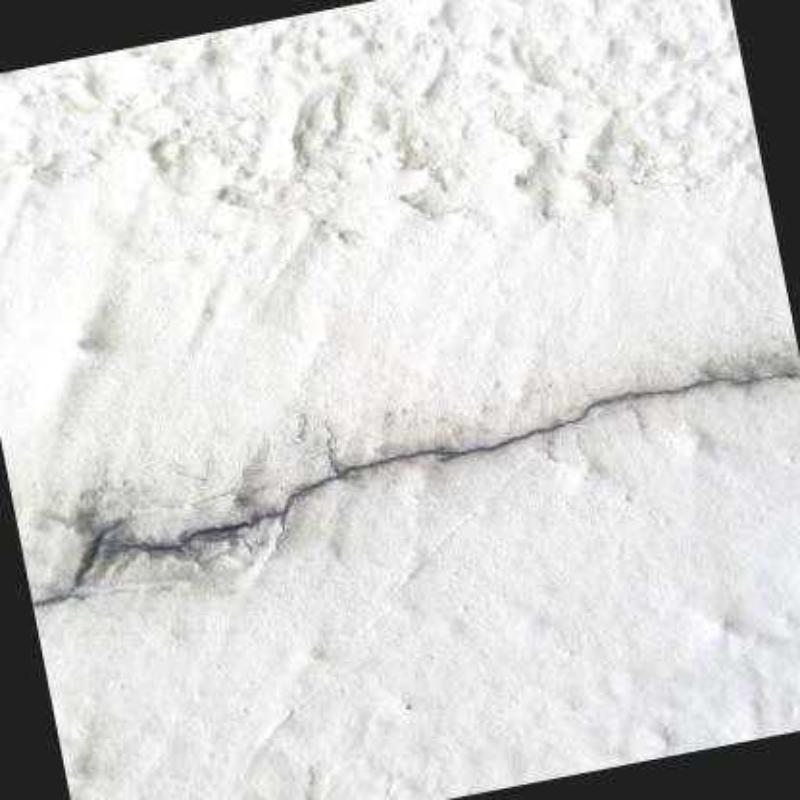crack: (112, 369, 798, 555), (33, 523, 122, 605)
